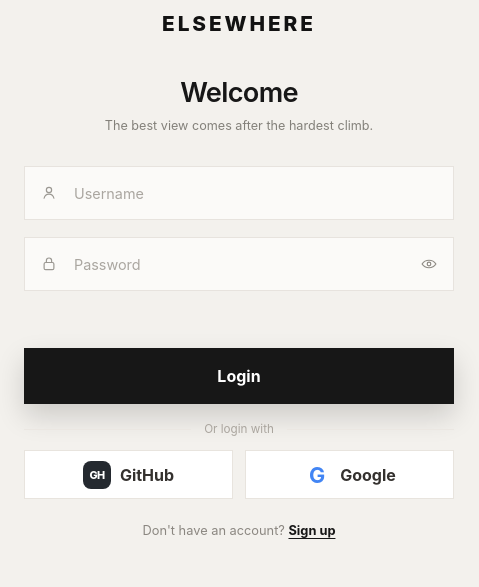
AuthPanel › shows a backend configuration error without leaving the form
Click the button "GH GitHub": click(128, 475) [24, 450, 233, 499]
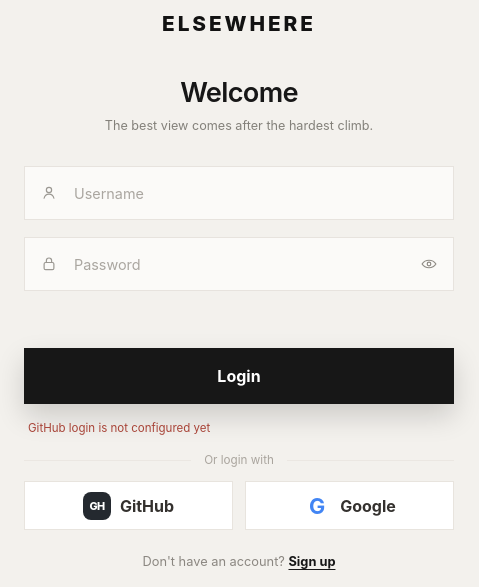
Expected: the message reads "GitHub login is not configured yet", [28, 421, 210, 435]
